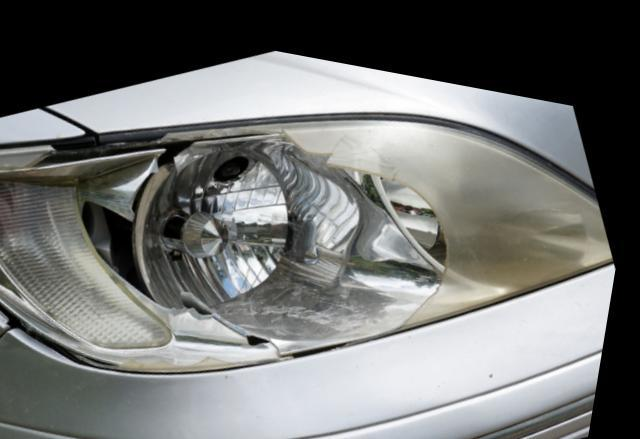lamp broken: (0, 102, 618, 362)
